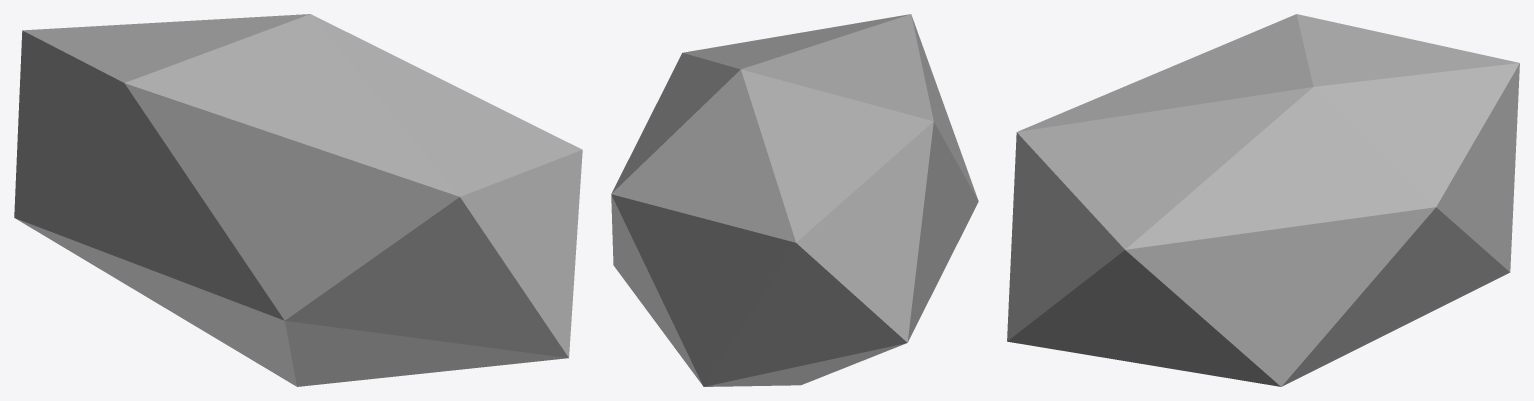
File: stone.glb
3 renders of one model, left to right at view 1: azimuth 30°, elevation 25°; view 2: azimuth 150°, elevation 25°; view 3: azimuth 270°, elevation 25°, orthographic. The views are drawn at different scales.
Visible parts, largest first — view 1: stone; view 2: stone; view 3: stone.
Part boxes in pixels (x1,y1,x2,y2): stone: (14,14,582,386); stone: (611,14,978,386); stone: (1007,14,1519,386).
Bounding box in the file's own units: 0.1984 × 0.1619 × 0.2427.
1 material, 1 textured.
